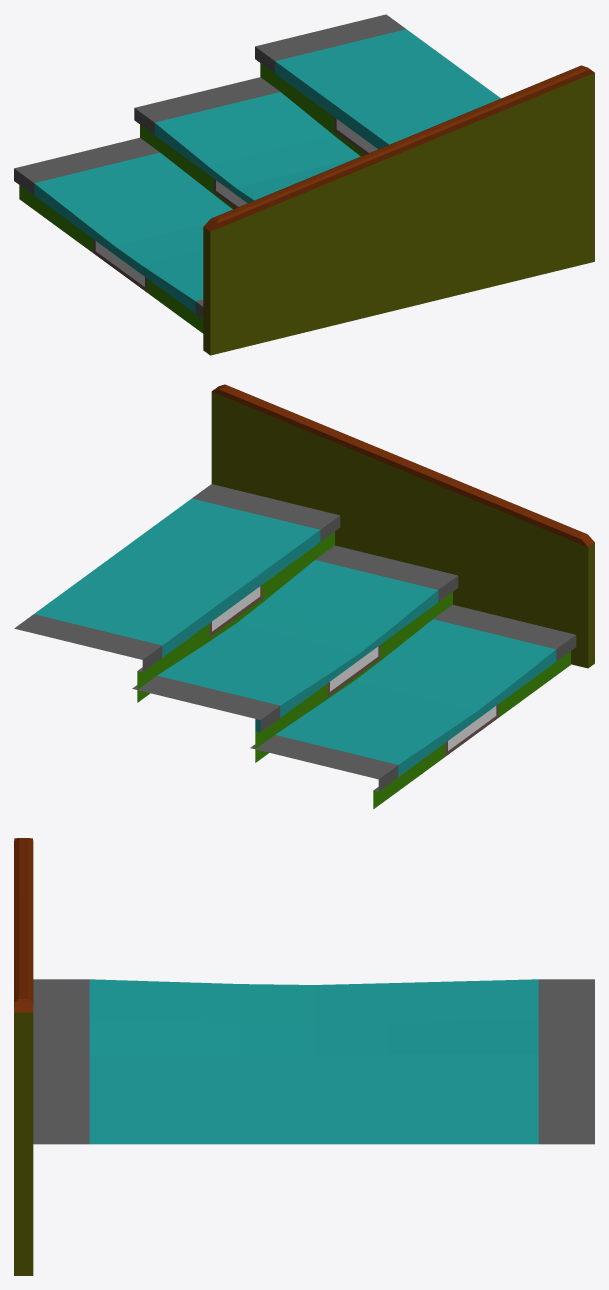
File: fbx_Room_Stairs_Right_V1.3.fbx
The picture shows the model from 3 angles, top to bottom: view 1: azimuth 30°, elevation 25°; view 2: azimuth 150°, elevation 25°; view 3: azimuth 270°, elevation 25°; orthographic projection. The views are drawn at different scales.
Parts seen in each view (by area): view 1: pCube54; view 2: pCube54; view 3: pCube54.
Boxes of the visible parts, x1,y1,x2,y2 form: pCube54: [14, 14, 594, 355]; pCube54: [14, 384, 594, 809]; pCube54: [14, 838, 594, 1275].
Bounding box in the file's own units: 319 × 154 × 300.
